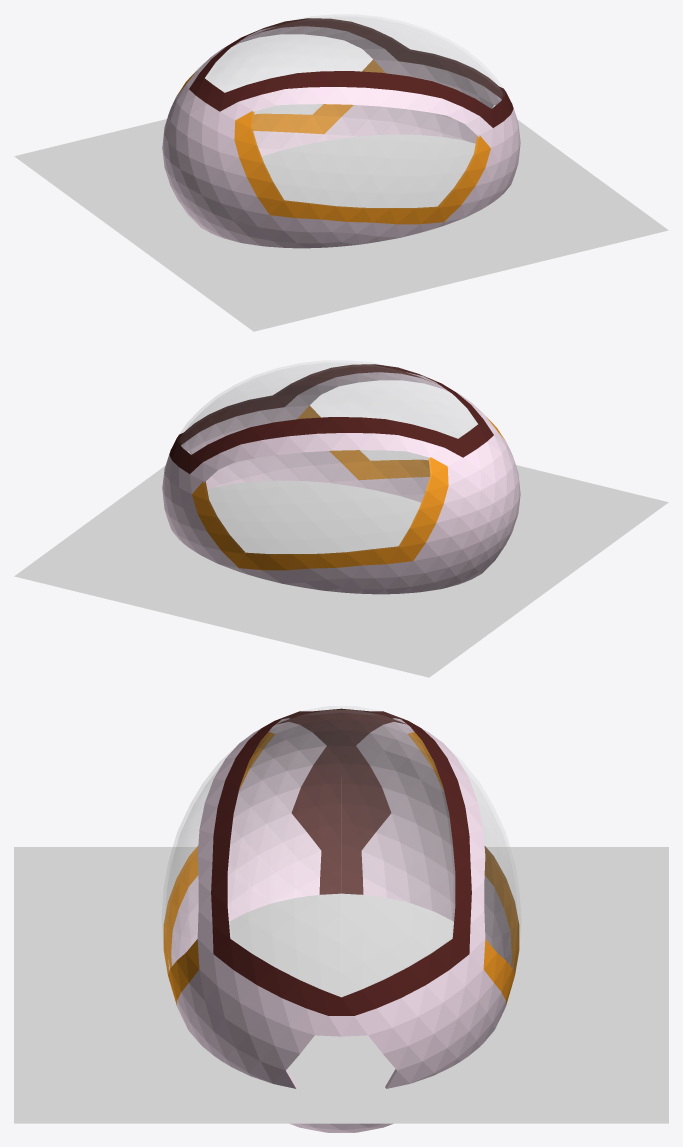
Rendered from Inhance.fbx.
3 views of the same model, one above another, from view 1: azimuth 30°, elevation 25°; view 2: azimuth 150°, elevation 25°; view 3: azimuth 270°, elevation 25° (orthographic). The views are drawn at different scales.
Parts seen in each view (by area): view 1: Icosphere, Plane; view 2: Icosphere, Plane; view 3: Plane, Icosphere.
Boxes of the visible parts, <box> form: Icosphere: <box>162,15,520,248</box>; Plane: <box>14,104,668,331</box>; Icosphere: <box>162,361,520,594</box>; Plane: <box>14,450,668,677</box>; Plane: <box>14,847,668,1123</box>; Icosphere: <box>162,706,520,1132</box>.
Size of the model in its own units: 597 by 333 by 597.
